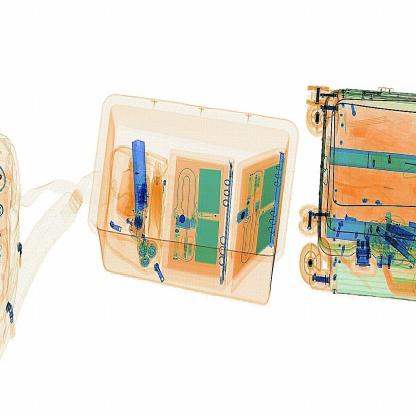pliers: (130, 132, 147, 218)
